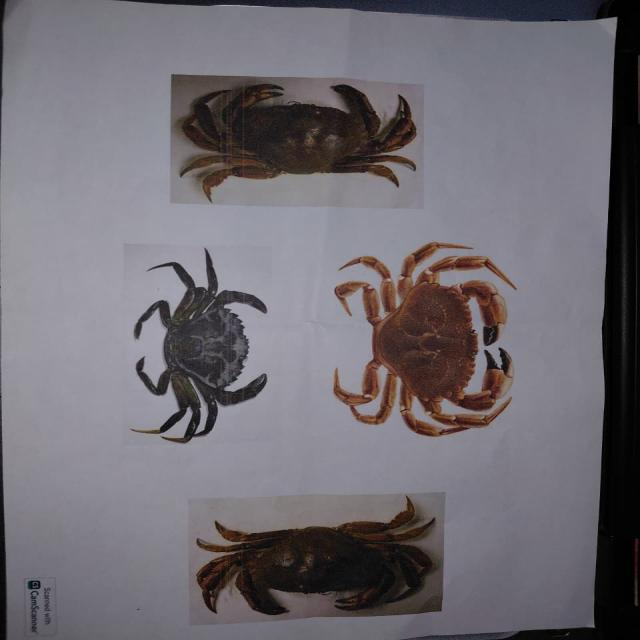egc: (131, 248, 267, 442)
